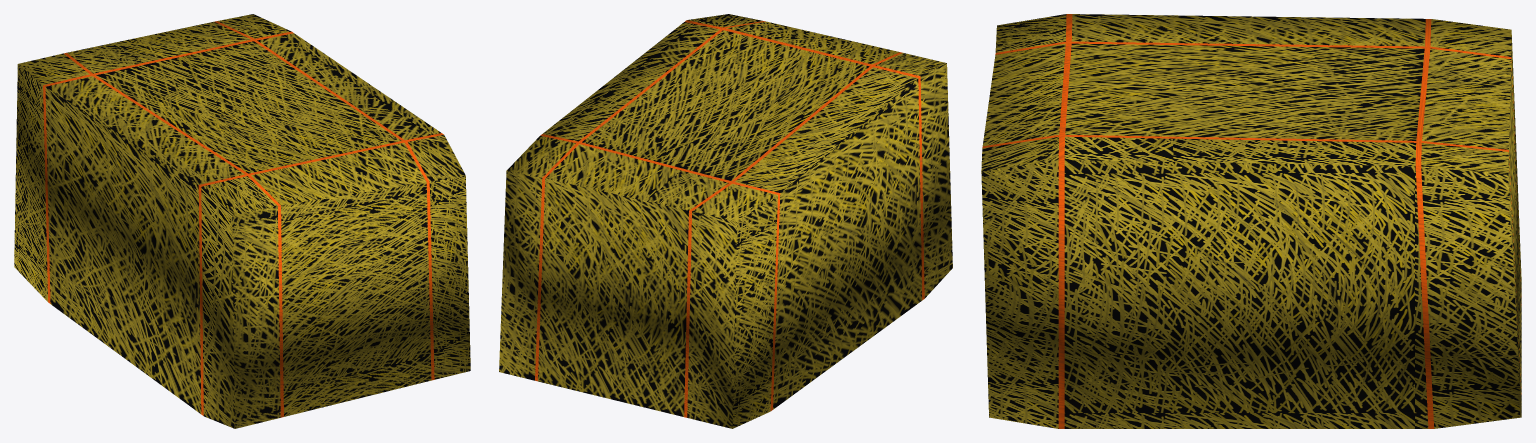
File: HayPile.fbx
The picture shows the model from 3 angles, left to right: view 1: azimuth 30°, elevation 25°; view 2: azimuth 150°, elevation 25°; view 3: azimuth 270°, elevation 25°; orthographic projection. The views are drawn at different scales.
Parts seen in each view (by area): view 1: HayPile; view 2: HayPile; view 3: HayPile.
Part boxes in pixels (box(x1,y1,x2,y2)): HayPile: box(14, 14, 470, 428); HayPile: box(499, 14, 952, 428); HayPile: box(981, 14, 1521, 428).
Bounding box in the file's own units: 98.79 × 86.88 × 155.
Materials: 2 (2 with a texture image).
